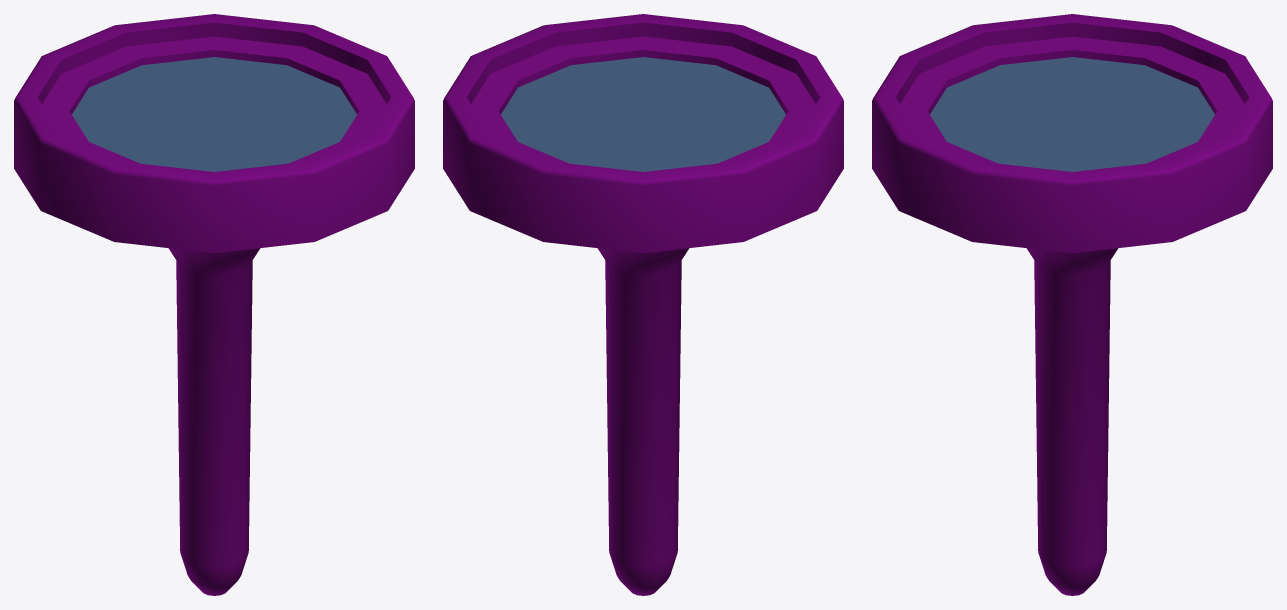
Rendered from SM_Thermometre_Water.fbx.
3 renders of one model, left to right at view 1: azimuth 30°, elevation 25°; view 2: azimuth 150°, elevation 25°; view 3: azimuth 270°, elevation 25°, orthographic.
Visible parts, largest first — view 1: SM_Thermometre_Water; view 2: SM_Thermometre_Water; view 3: SM_Thermometre_Water.
Boxes of the visible parts, x1,y1,x2,y2 form: SM_Thermometre_Water: [14, 14, 414, 595]; SM_Thermometre_Water: [443, 14, 843, 595]; SM_Thermometre_Water: [872, 14, 1272, 595].
Bounding box in the file's own units: 35.31 × 47.92 × 35.31.
